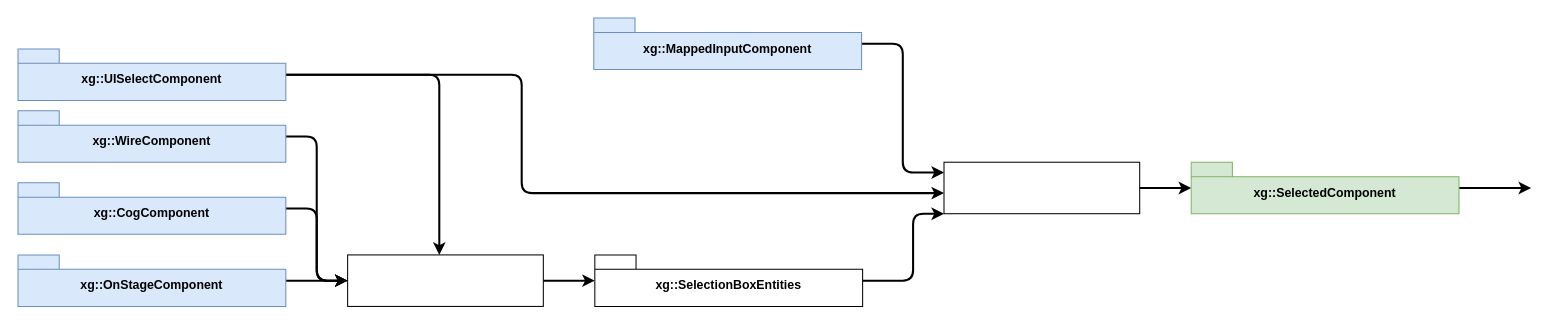
This 1558x324 diagram has some shape labels left out. Each missing label, with the centre of its shape:
"xg::SelectionBoxSystem" belongs at pixel 445 280.
"xg::SelectionSystem" belongs at pixel 1041 187.
